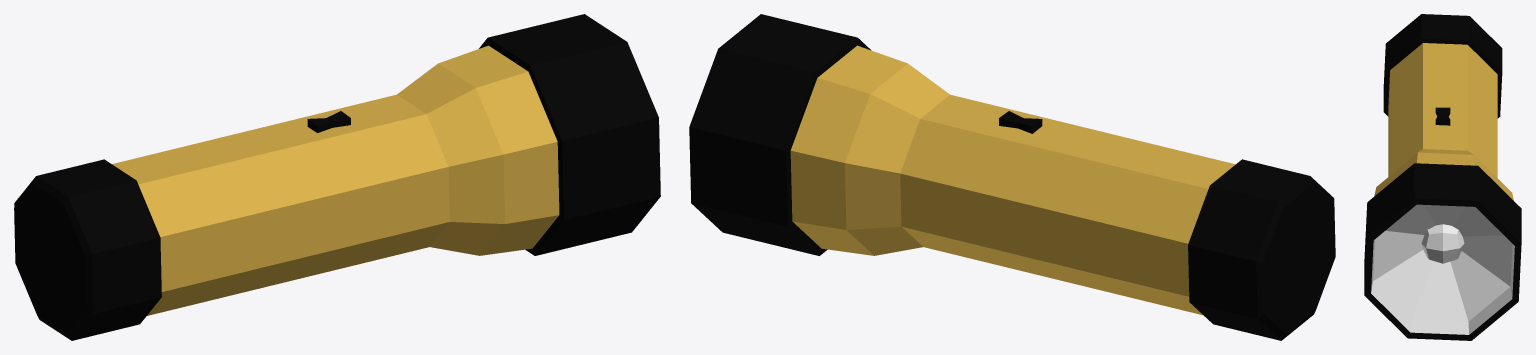
The model's file is Flashlight.fbx.
The picture shows the model from 3 angles, left to right: view 1: azimuth 30°, elevation 25°; view 2: azimuth 150°, elevation 25°; view 3: azimuth 270°, elevation 25°; orthographic projection. The views are drawn at different scales.
Parts seen in each view (by area): view 1: Cylinder; view 2: Cylinder; view 3: Cylinder.
Part boxes in pixels (<box>): Cylinder: <box>14,14,660,340</box>; Cylinder: <box>689,14,1335,340</box>; Cylinder: <box>1364,14,1521,340</box>.
Bounding box in the file's own units: 571 × 186 × 186.
